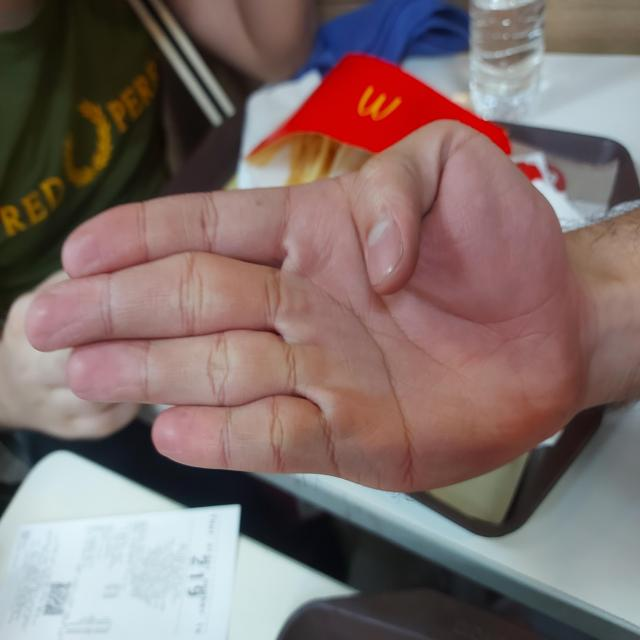B: (144, 21, 524, 588)
